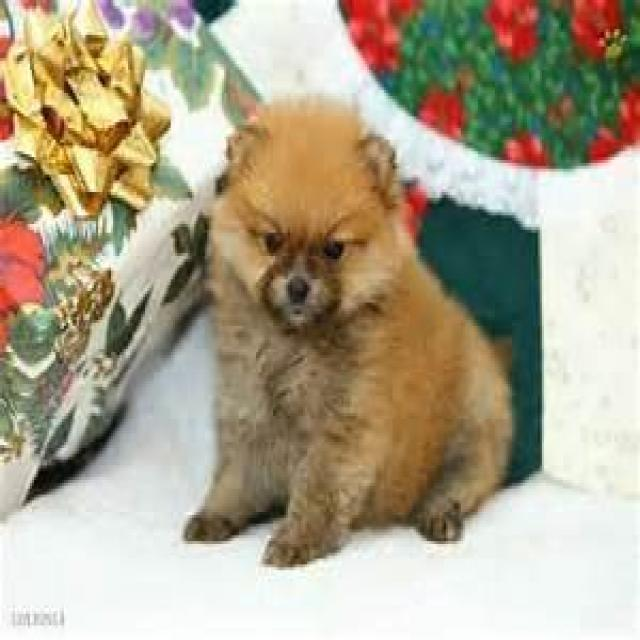dog: (181, 96, 512, 570)
